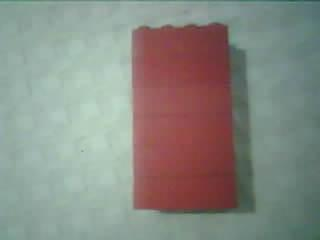lego: (129, 22, 240, 212)
